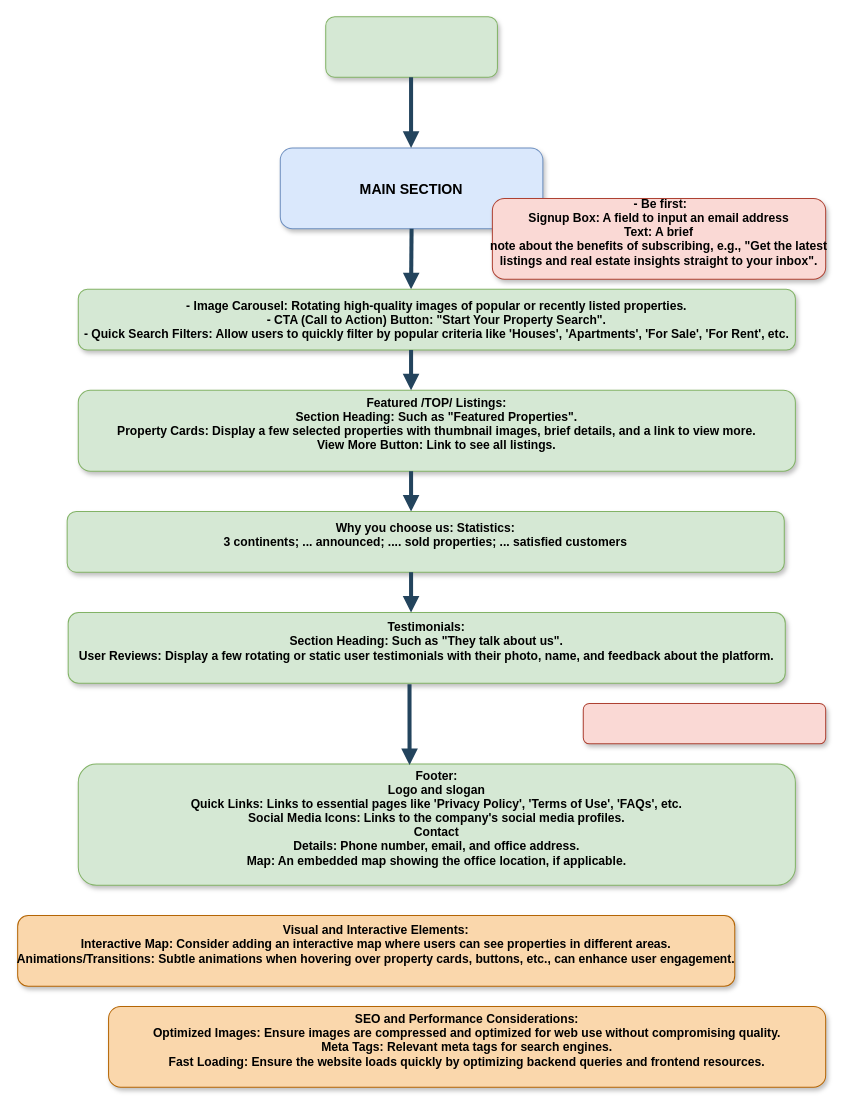
Image size: 843x1104. Some labels were removed from this diagram. The shapes that lost their labels are listed below. From the top down, each one's centre as x and y in pixels, then its label:
At point 412,48: "Header".
At point 705,724: "Chat now section".
